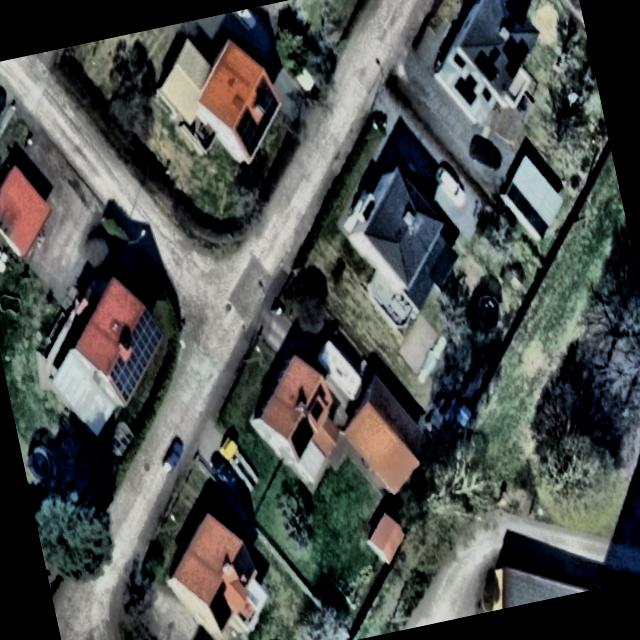roof_pv: (128, 305, 170, 369), (228, 104, 262, 162), (102, 352, 136, 403), (205, 580, 238, 632), (284, 413, 319, 460), (256, 74, 284, 126), (228, 538, 258, 586), (453, 68, 484, 111), (474, 45, 504, 78), (506, 31, 531, 62), (126, 347, 145, 387), (500, 43, 519, 77), (448, 46, 469, 72), (479, 81, 496, 107), (254, 113, 269, 135)
